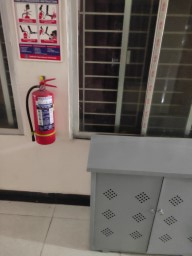fire_extinguisher: (57, 180, 109, 220)
